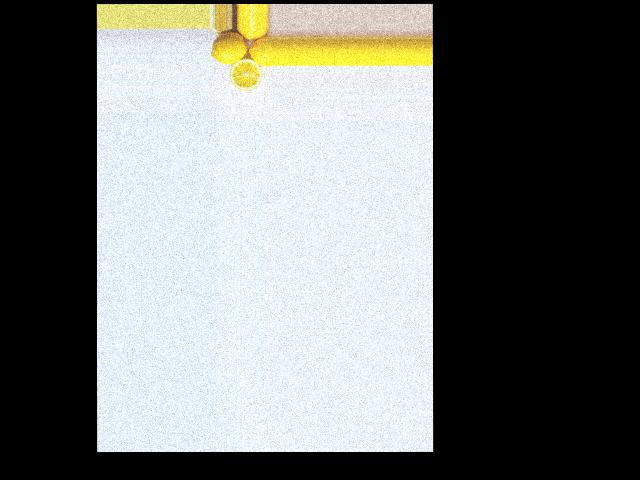lemon: (248, 39, 271, 66)
